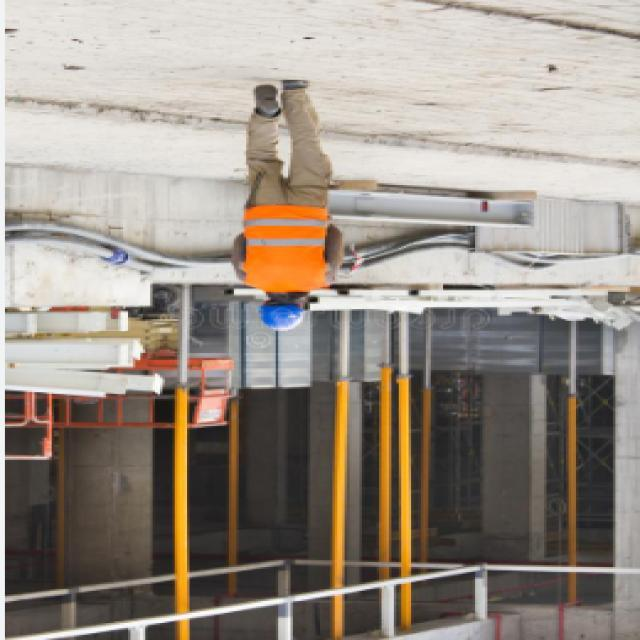boots: (246, 76, 318, 118)
helmet: (254, 295, 316, 331)
vest: (234, 199, 335, 299)
